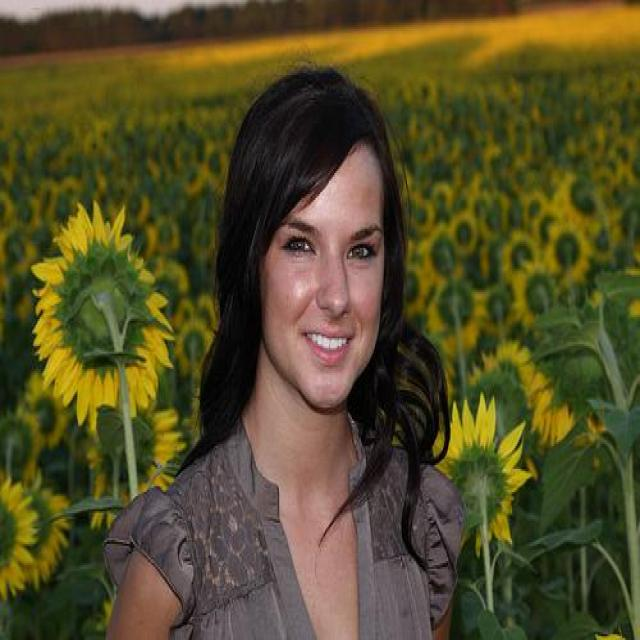sunflower: (31, 196, 165, 417), (432, 401, 529, 547), (0, 480, 36, 602)
